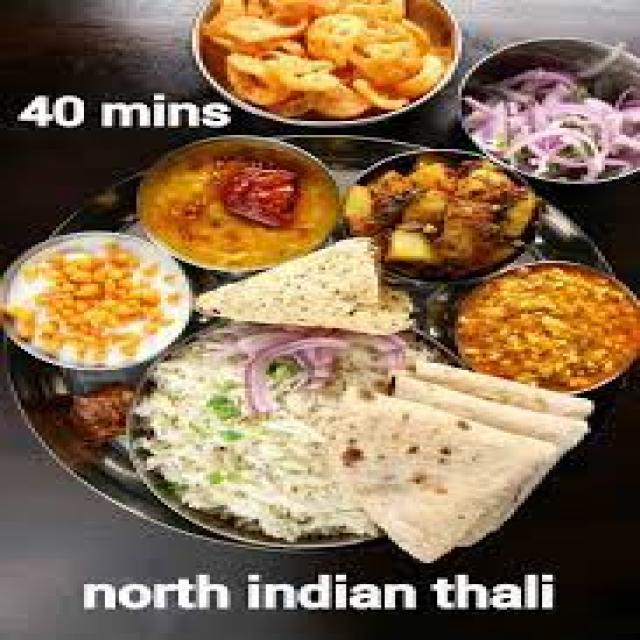papad: (206, 241, 403, 336)
pickle: (153, 137, 349, 267)
raita: (11, 245, 187, 366)
rice: (442, 259, 639, 392)
veg-fry: (134, 137, 363, 271)
